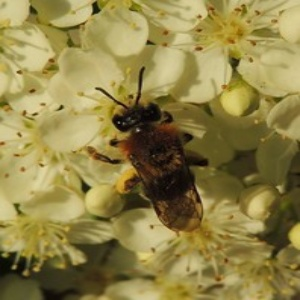bee: (102, 75, 212, 234)
